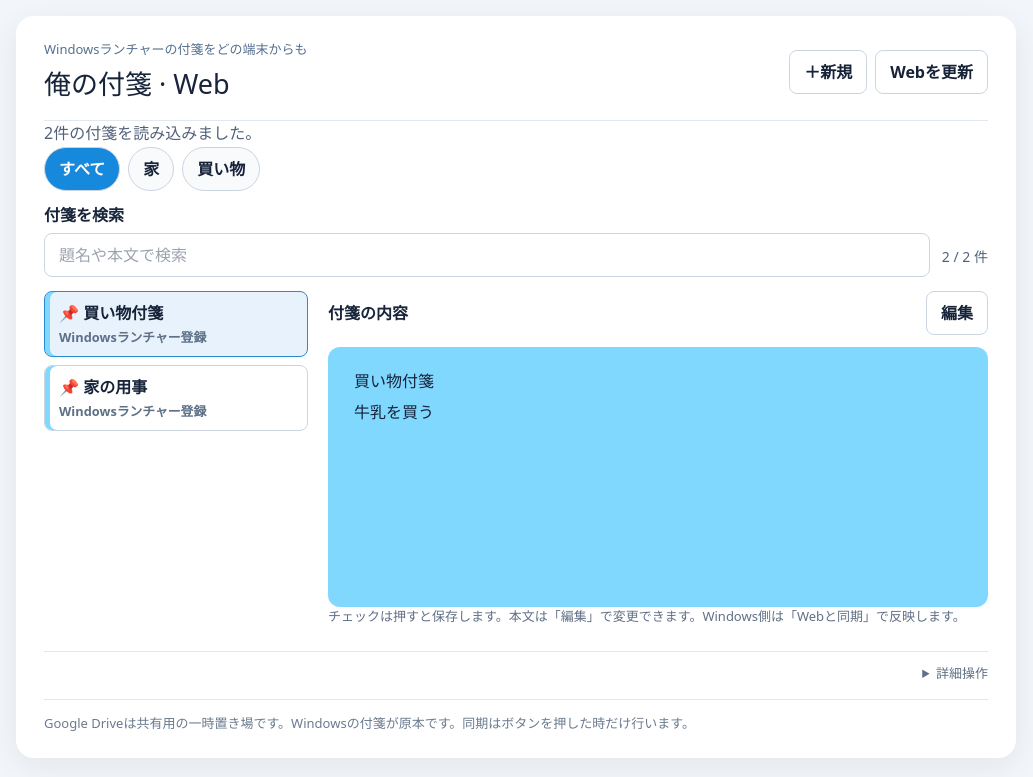
Scenario: shared note editor › Windowsから届いたタグで一覧を絞り、すべてに戻せる
The image size is (1033, 777).
Expected: the text "2件の付箋を読み込みました。" is shown, [44, 122, 261, 144]
Click the button "家": (151, 169) [128, 147, 174, 191]
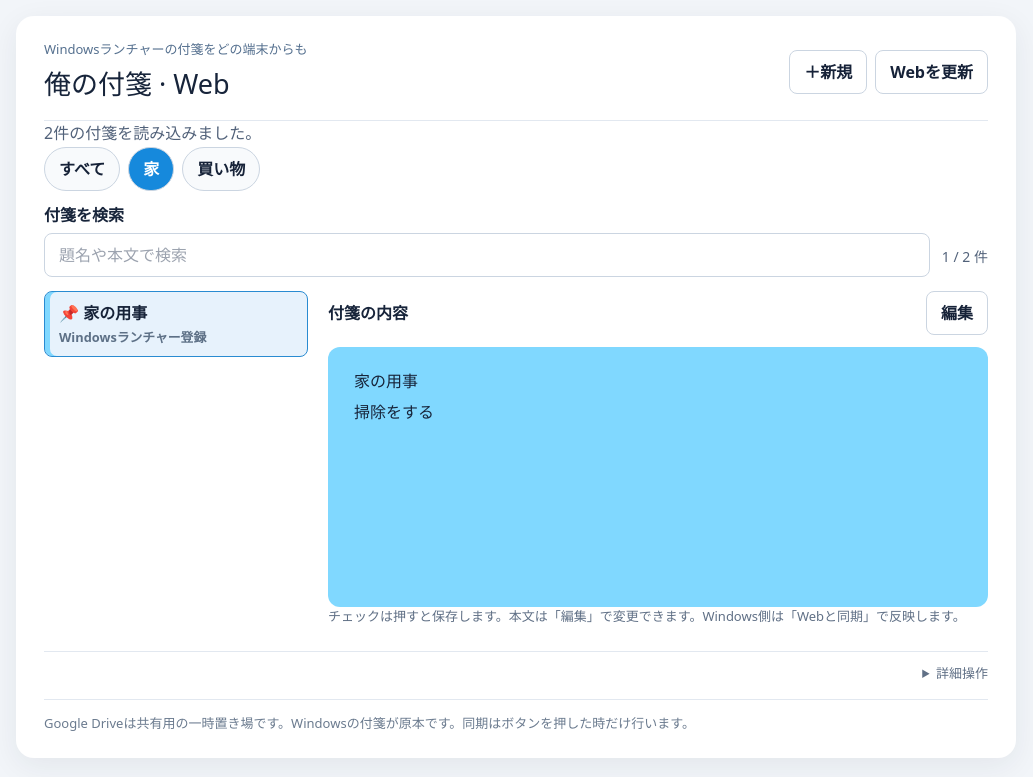
Now the heading "家の用事" is shown, box [354, 370, 418, 392]
Now the text "1 / 2 件" is shown, box [942, 246, 988, 277]
Now the button "買い物付箋" is gone
Click the button "すべて": (82, 169) [44, 147, 120, 191]
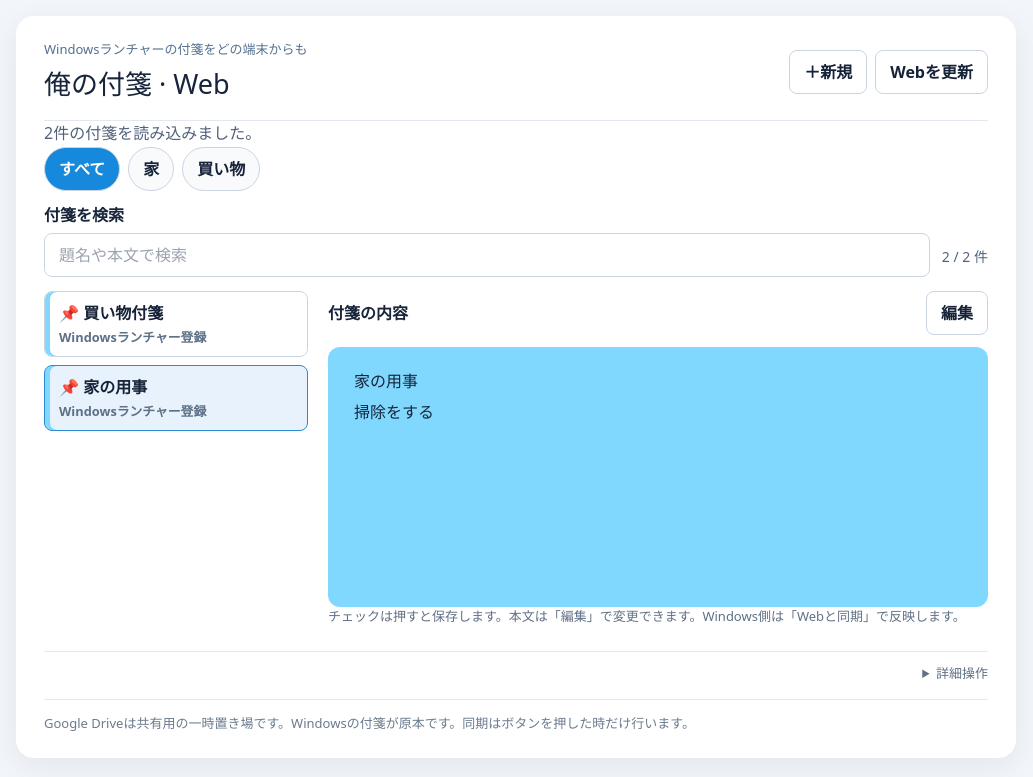
Expected: the button "📌 家の用事 Windowsランチャー登録" is shown, [44, 365, 308, 431]
Now the text "2 / 2 件" is shown, box [942, 246, 988, 277]
Now the button "📌 買い物付箋 Windowsランチャー登録" is shown, box [44, 291, 308, 357]
